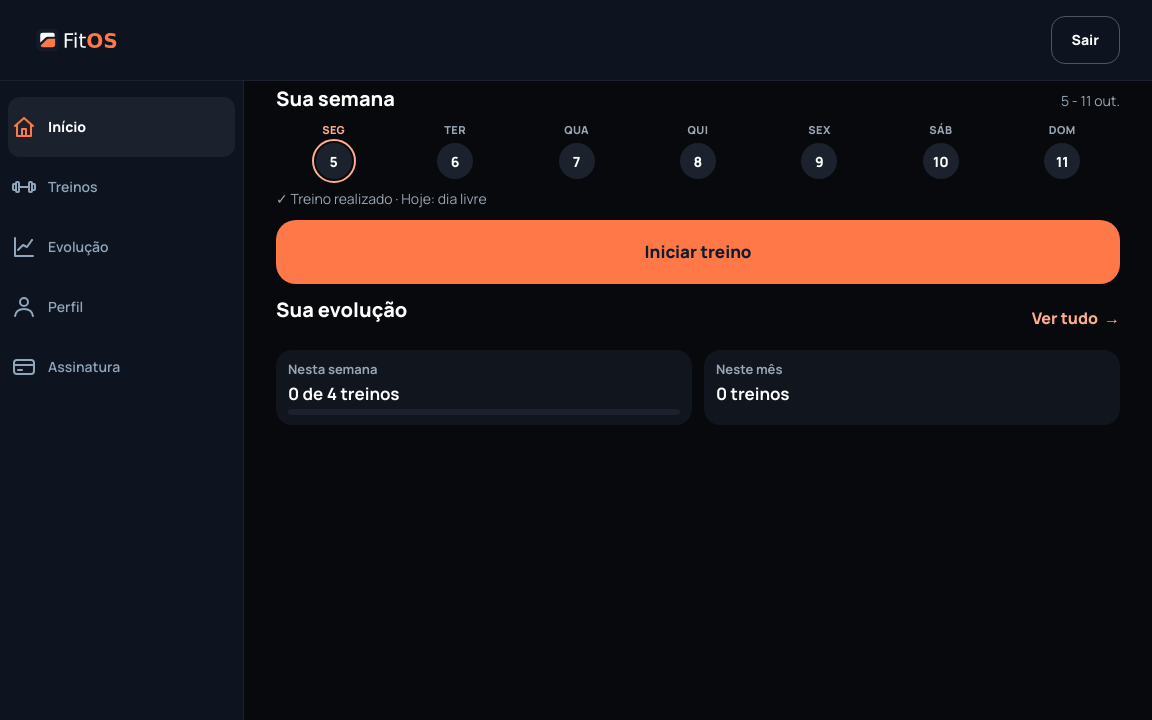
Scenario: IndividualHome: painel (proposta 9) › sem treinos: programado oferece a biblioteca; sem a flag, sem treino realizado
Step 1. Click the button "Iniciar treino" → [698, 252], box [276,220,1120,284]
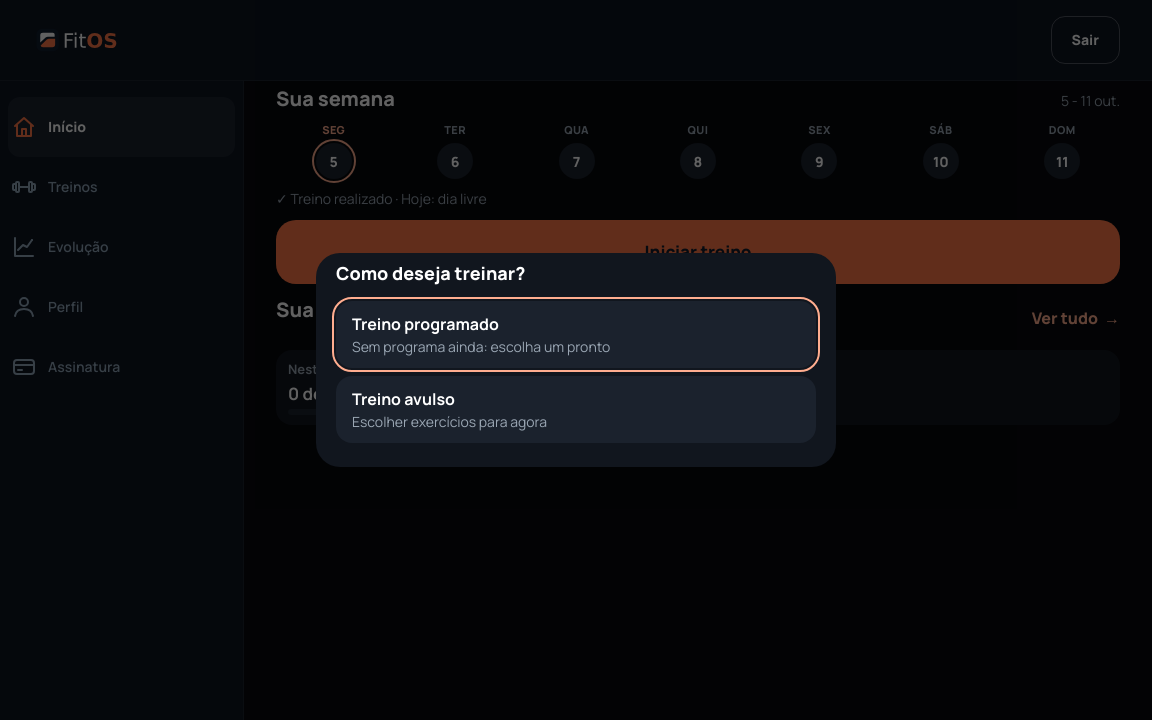
Expected: the text "Sem programa ainda: escolha um pronto" is shown, [352,337,610,356]
